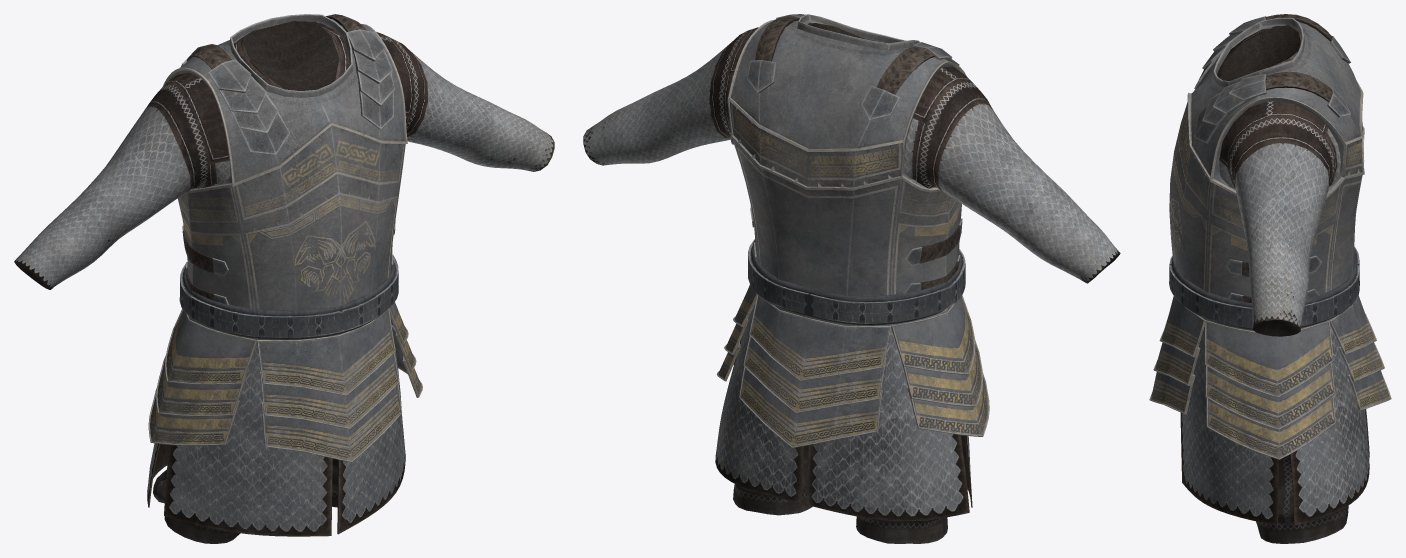
Rendered from sk_dwarf_erebor_chest_plate_elite_a2.fbx.
3 renders of one model, left to right at view 1: azimuth 30°, elevation 25°; view 2: azimuth 150°, elevation 25°; view 3: azimuth 270°, elevation 25°, orthographic. The views are drawn at different scales.
Visible parts, largest first — view 1: sk_dwarf_erebor_chest_plate_elite_a2.3, sk_dwarf_erebor_chest_plate_elite_a2.2, sk_dwarf_erebor_chest_plate_elite_a2.1, sk_dwarf_erebor_chest_plate_elite_a2.0; view 2: sk_dwarf_erebor_chest_plate_elite_a2.3, sk_dwarf_erebor_chest_plate_elite_a2.2, sk_dwarf_erebor_chest_plate_elite_a2.1, sk_dwarf_erebor_chest_plate_elite_a2.0; view 3: sk_dwarf_erebor_chest_plate_elite_a2.3, sk_dwarf_erebor_chest_plate_elite_a2.2, sk_dwarf_erebor_chest_plate_elite_a2.1, sk_dwarf_erebor_chest_plate_elite_a2.0.
Boxes of the visible parts, x1,y1,x2,y2 form: sk_dwarf_erebor_chest_plate_elite_a2.3: (148, 14, 422, 462); sk_dwarf_erebor_chest_plate_elite_a2.2: (14, 21, 554, 536); sk_dwarf_erebor_chest_plate_elite_a2.1: (181, 14, 395, 304); sk_dwarf_erebor_chest_plate_elite_a2.0: (153, 458, 337, 543); sk_dwarf_erebor_chest_plate_elite_a2.3: (717, 14, 989, 447); sk_dwarf_erebor_chest_plate_elite_a2.2: (583, 23, 1120, 520); sk_dwarf_erebor_chest_plate_elite_a2.1: (747, 14, 962, 293); sk_dwarf_erebor_chest_plate_elite_a2.0: (733, 435, 962, 543); sk_dwarf_erebor_chest_plate_elite_a2.3: (1149, 18, 1391, 459); sk_dwarf_erebor_chest_plate_elite_a2.2: (1180, 25, 1369, 525); sk_dwarf_erebor_chest_plate_elite_a2.1: (1194, 14, 1350, 302); sk_dwarf_erebor_chest_plate_elite_a2.0: (1256, 454, 1348, 543).
Size of the model in its own units: 1.16 by 0.4861 by 1.03.
4 materials, 4 textured.
